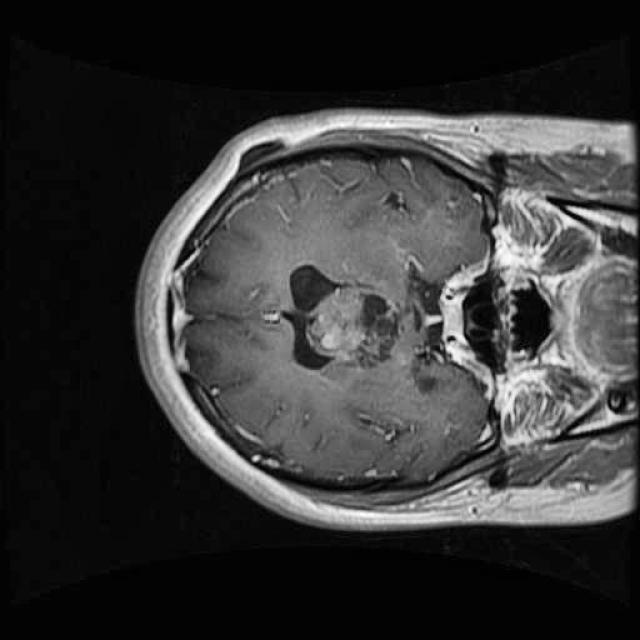Tumor: (270, 249, 414, 382)
